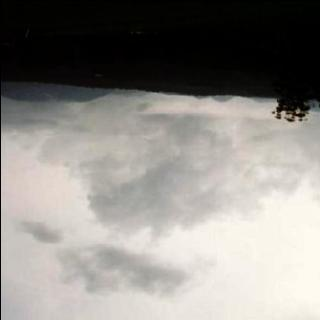Stratocumulus: (0, 83, 320, 320)
